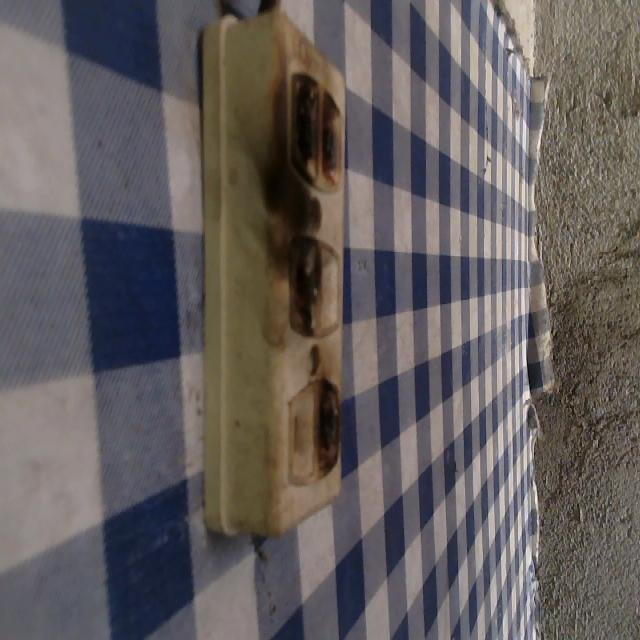-: (271, 56, 356, 201), (270, 227, 328, 348), (314, 377, 344, 475)
